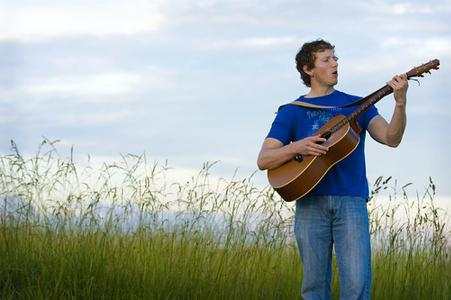person: (258, 40, 410, 300)
